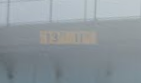1: (44, 31, 52, 43), (77, 31, 84, 44), (72, 31, 79, 43)
3: (50, 30, 60, 43)
overheadsign: (37, 29, 98, 46)
